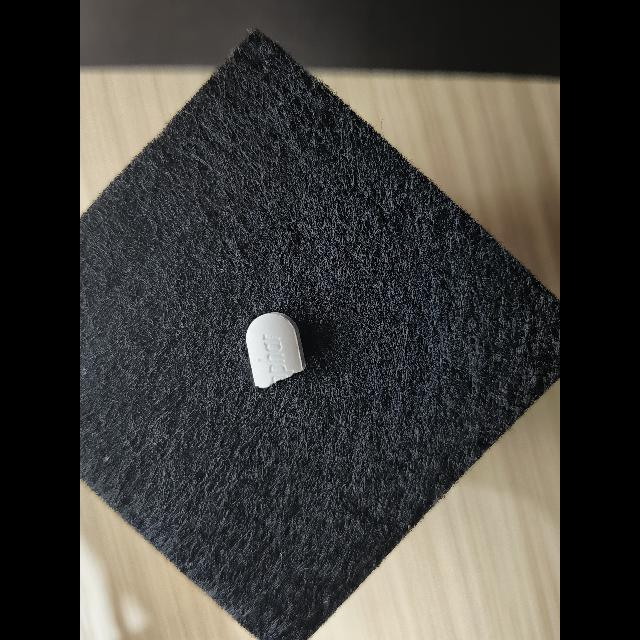Chipped Pill: (246, 312, 306, 388)
